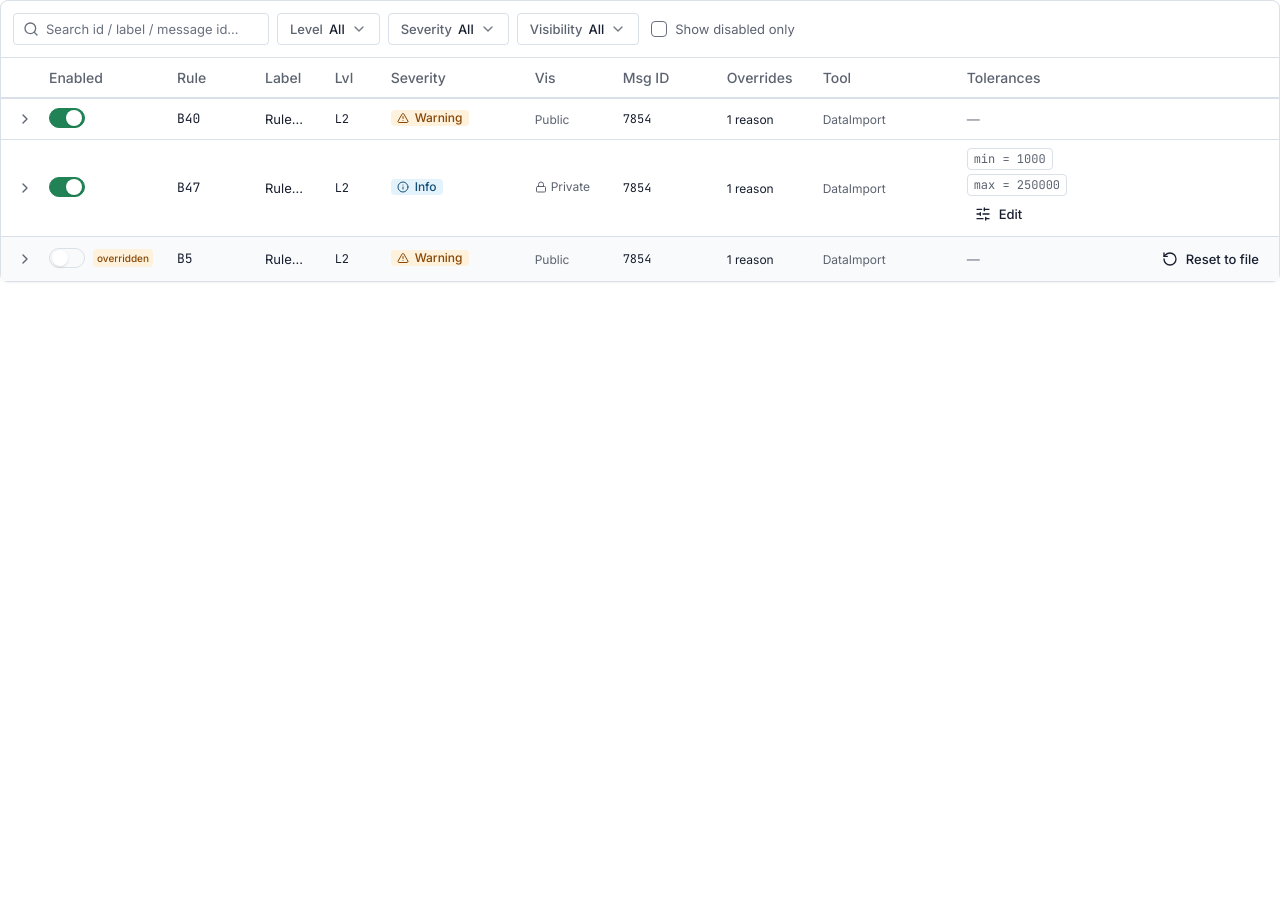
Test: RulesTable + RuleChangeDialog (ux 5.9 / 7.5) › toggling a rule opens the change dialog, requires a reason and PATCHes enabled + reason
This screenshot has width=1280, height=900.
Click the switch with test id "rule-toggle-B40" at (67, 118), box [49, 108, 85, 128]
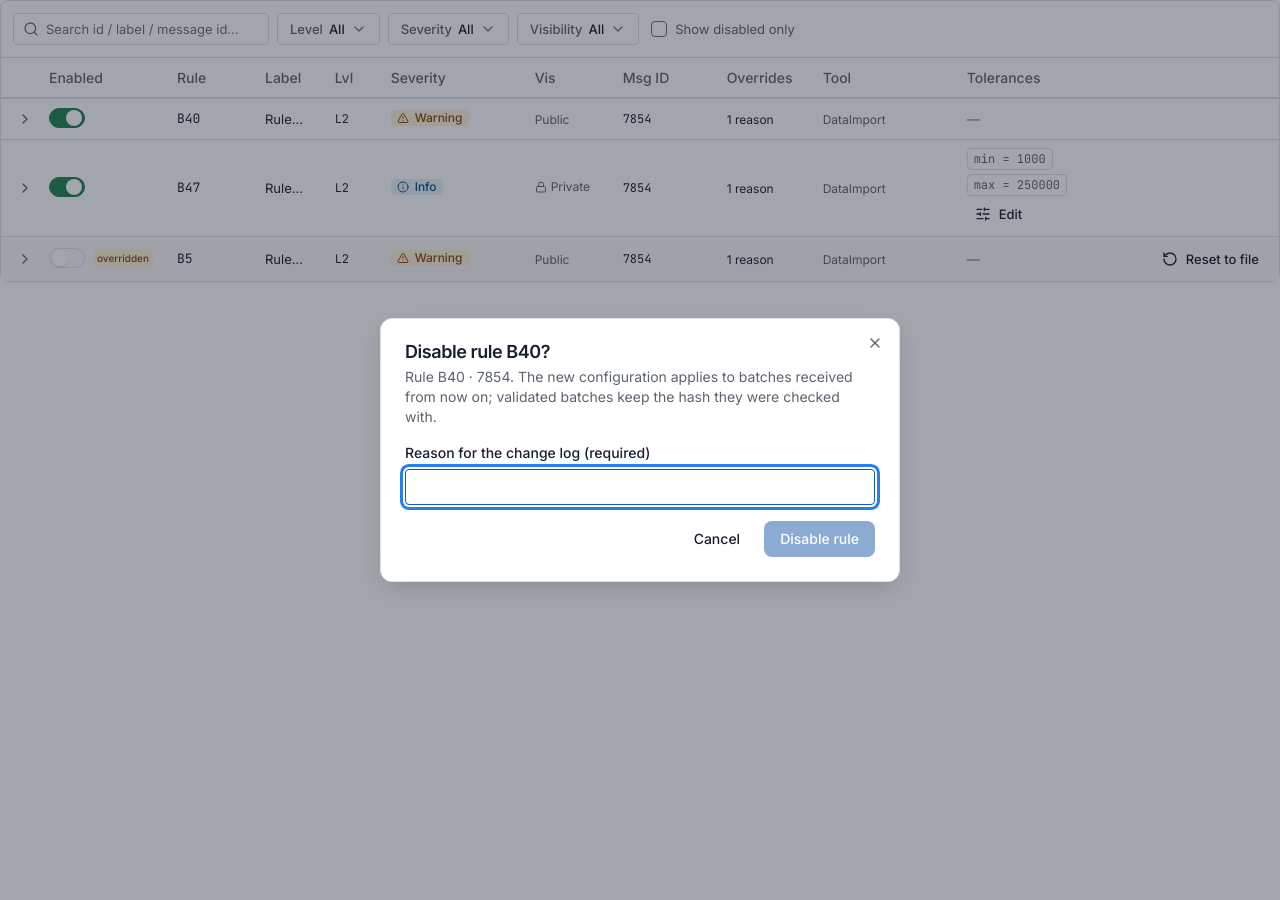
Expected: the dialog with test id "rule-change-dialog" shows "Disable rule B40?", [405, 341, 550, 362]
Expected: the dialog with test id "rule-change-dialog" shows "applies to batches received from now on", [405, 368, 853, 425]
Expected: the button with test id "rule-change-confirm" is disabled, [764, 521, 875, 557]
Type "ab" into the field with test id "rule-change-reason" at (640, 487), box [405, 469, 875, 505]
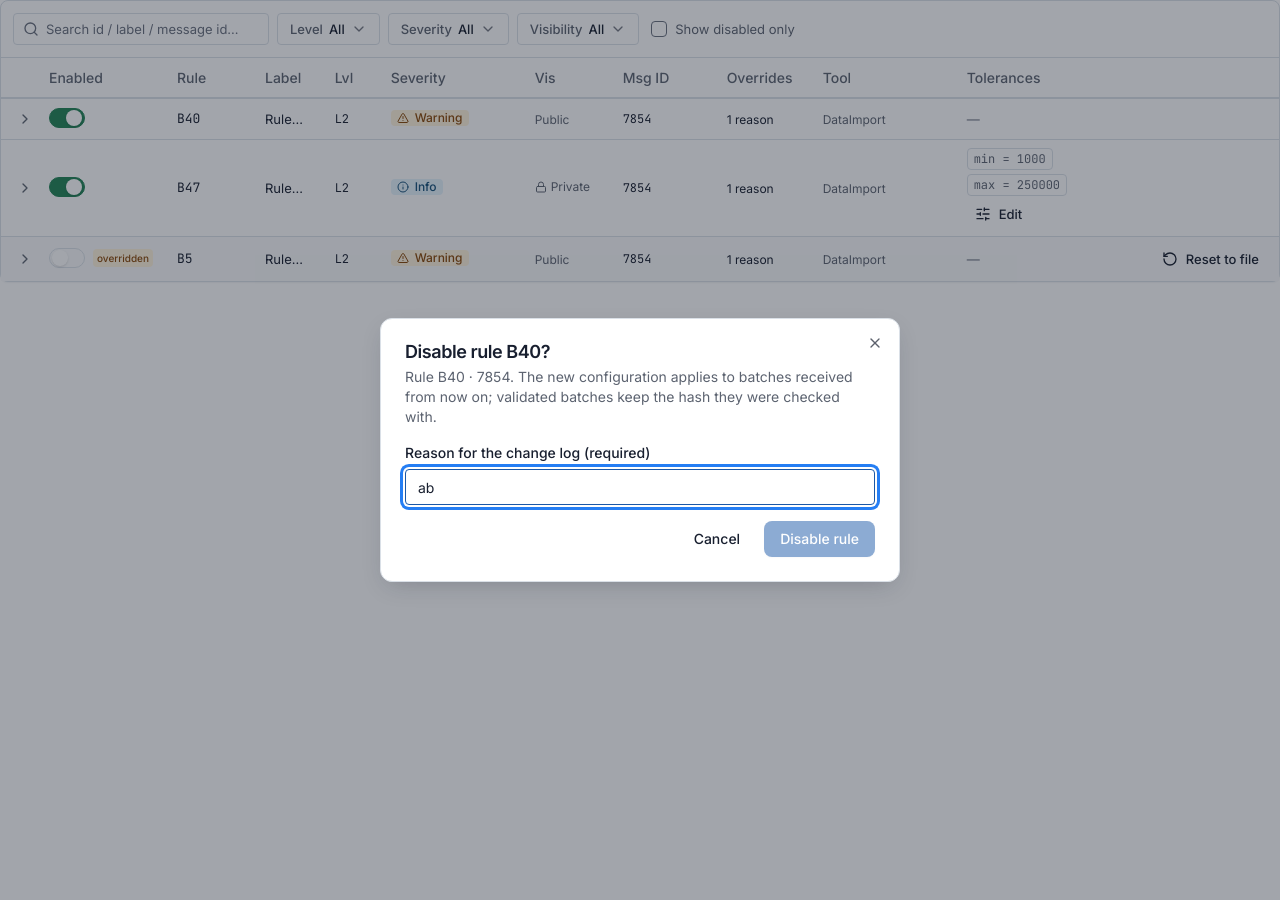
Expected: the button with test id "rule-change-confirm" is disabled, [764, 521, 875, 557]
Type "c - temporary" into the field with test id "rule-change-reason" at (640, 487), box [405, 469, 875, 505]
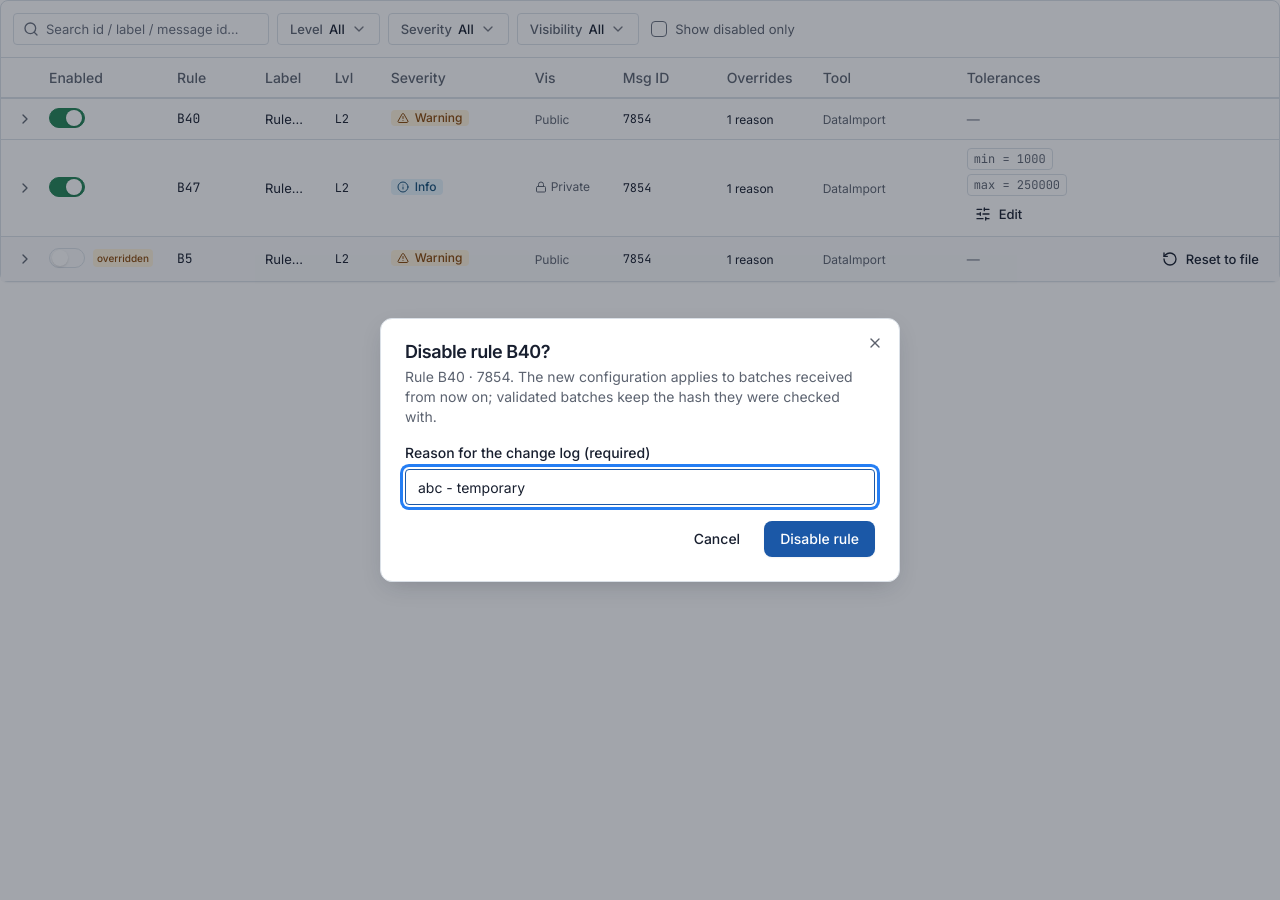
Expected: the button with test id "rule-change-confirm" is enabled
Click the button with test id "rule-change-confirm" at (820, 539), box [764, 521, 875, 557]
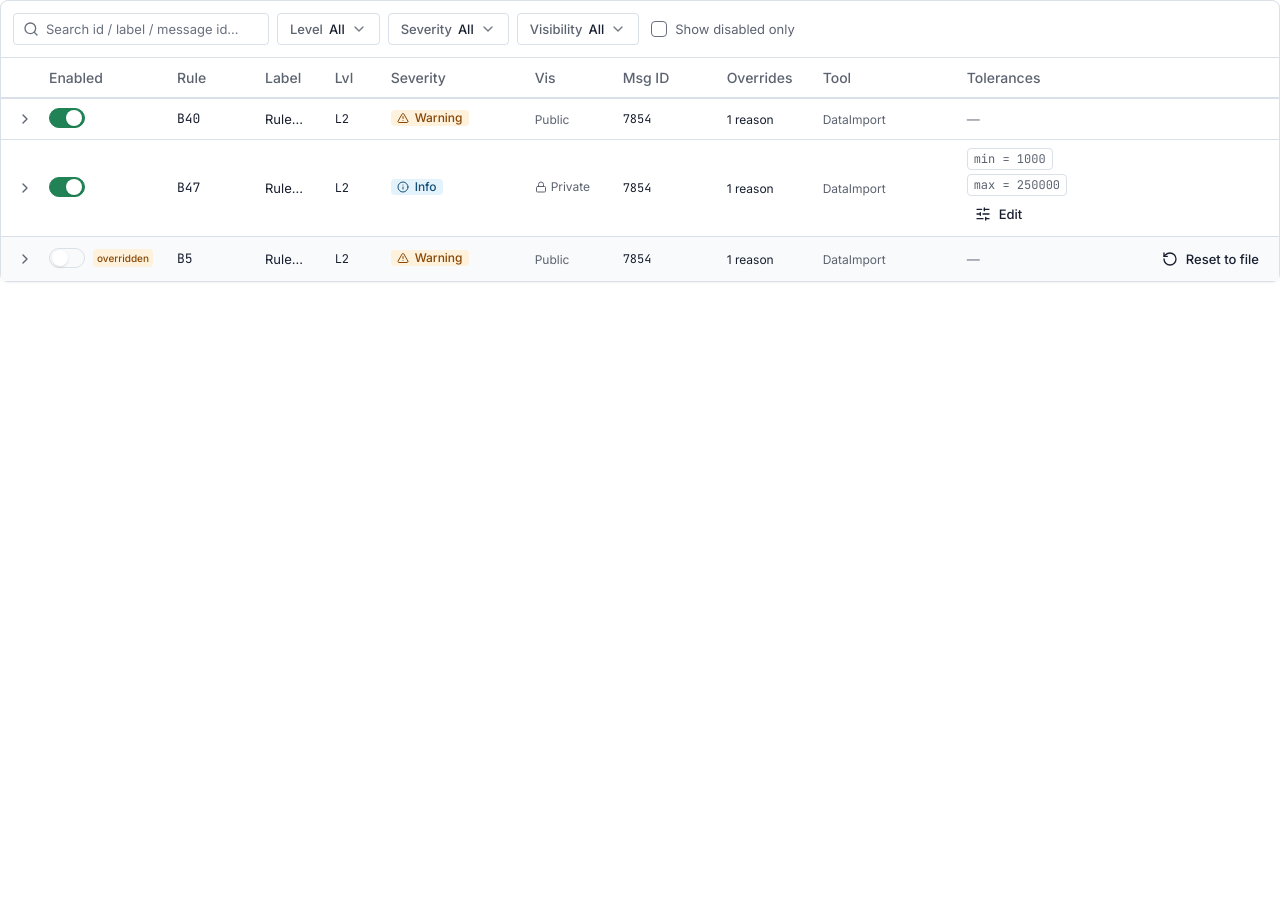
Expected: the dialog with test id "rule-change-dialog" is gone
